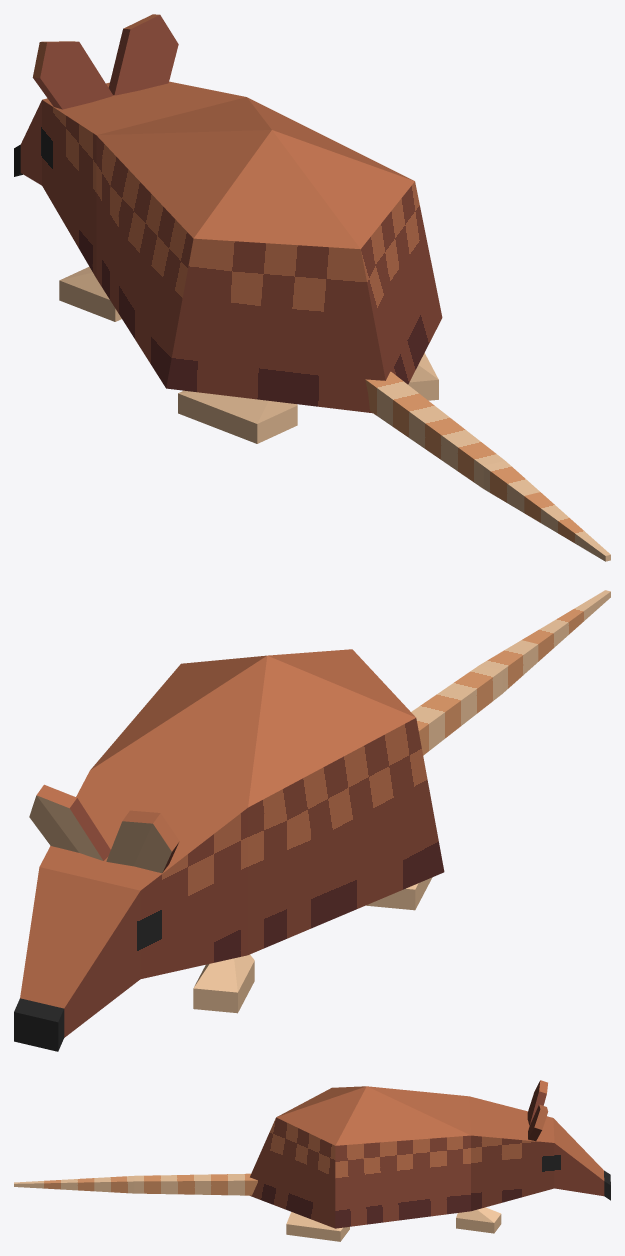
The model's file is rat.fbx.
3 renders of one model, top to bottom at view 1: azimuth 30°, elevation 25°; view 2: azimuth 150°, elevation 25°; view 3: azimuth 270°, elevation 25°, orthographic. The views are drawn at different scales.
Parts seen in each view (by area): view 1: sphere; view 2: sphere; view 3: sphere.
Boxes of the visible parts, x1,y1,x2,y2 form: sphere: [14, 14, 610, 561]; sphere: [14, 590, 610, 1051]; sphere: [14, 1080, 610, 1241].
Bounding box in the file's own units: 63.84 × 51.56 × 223.
Materials: 1 (1 with a texture image).
